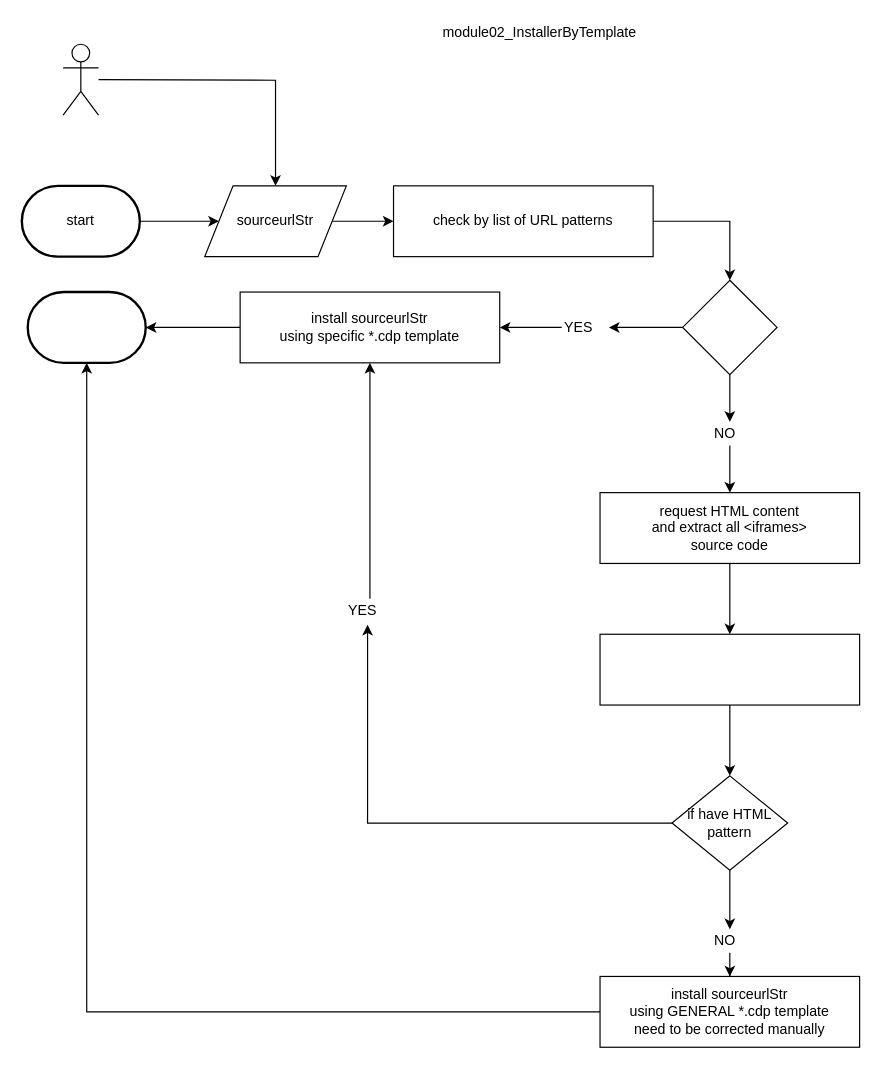
Image size: 880x1068. Some labels were removed from this diagram. Here are the shapes that lost their labels. From the top down, the centre of each, then its label:
At point (80, 79): "CdAutoinstaller".
At point (86, 326): "finish".
At point (729, 327): "if have URL pattern".
At point (729, 669): "check collected HTML source code for specific HTML-patterns".
